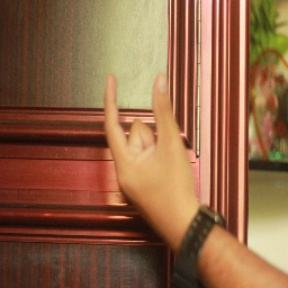U: (87, 65, 194, 201)
